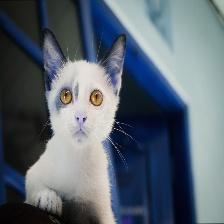kedo: (27, 27, 125, 224)
